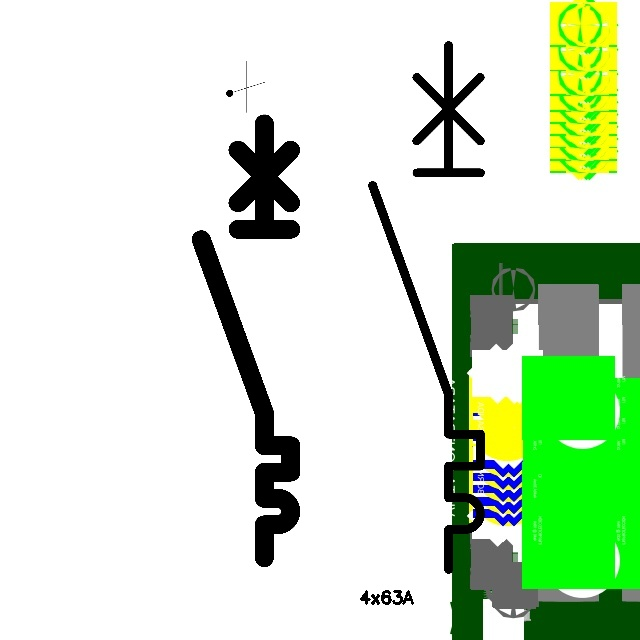interruptor_termomagnetico: (359, 32, 494, 583), (190, 112, 302, 569)
